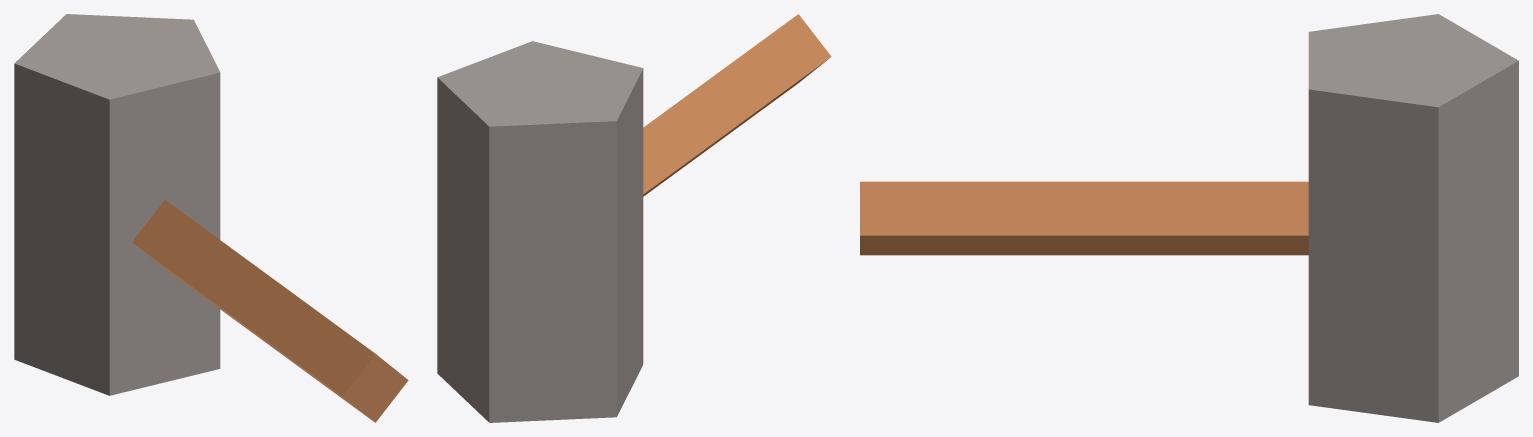
File: hammer.fbx
The picture shows the model from 3 angles, left to right: view 1: azimuth 30°, elevation 25°; view 2: azimuth 150°, elevation 25°; view 3: azimuth 270°, elevation 25°; orthographic projection. The views are drawn at different scales.
Parts seen in each view (by area): view 1: hammer; view 2: hammer; view 3: hammer.
Boxes of the visible parts, <box> form: hammer: <box>14,14,408,422</box>; hammer: <box>437,14,831,422</box>; hammer: <box>860,14,1518,422</box>.
Bounding box in the file's own units: 56.74 × 19.02 × 30.
